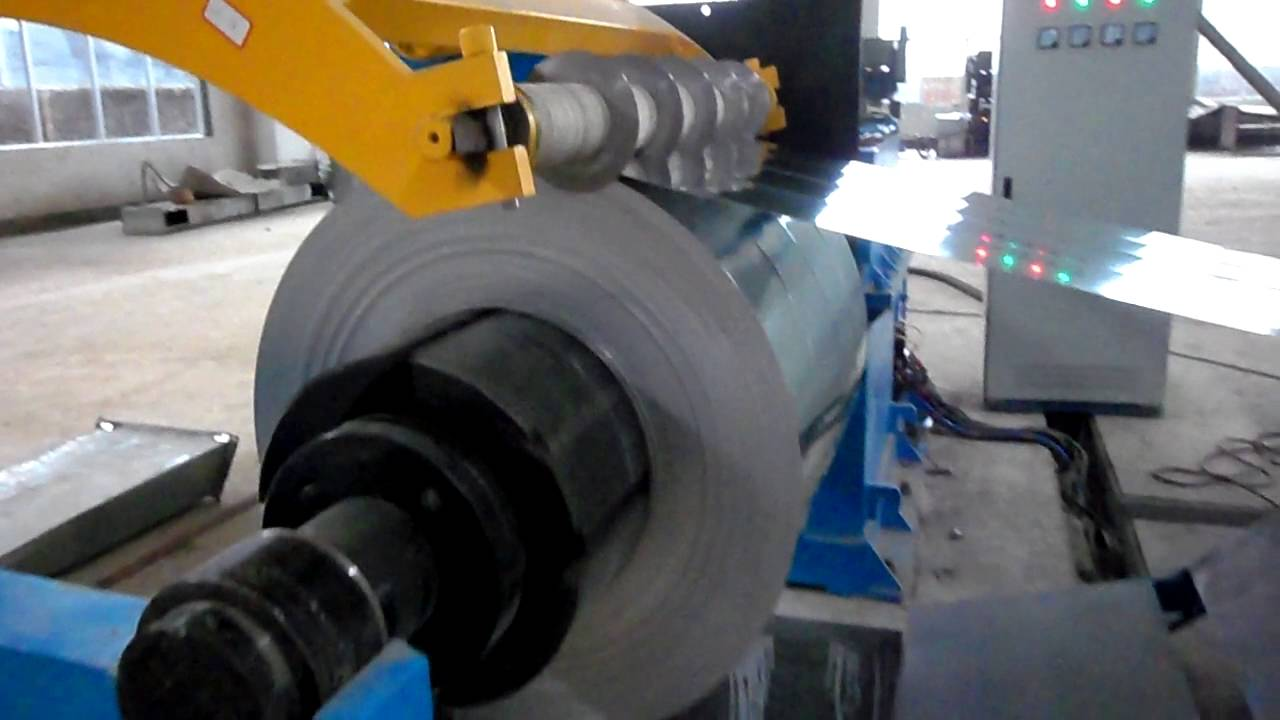steel-coil: (283, 169, 836, 592)
